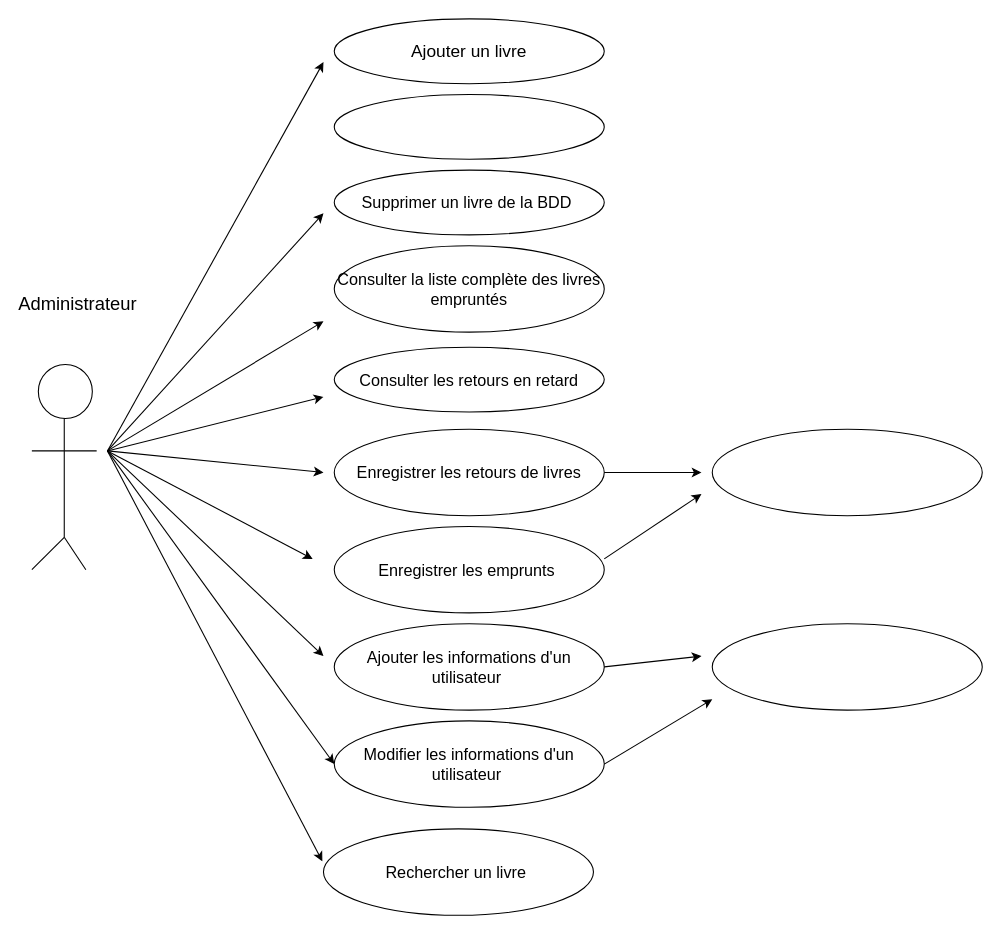
The diagram is 1001 pixels wide and 934 high, and some of its shapes have lost their labels. The shapes that lost their labels are listed below. From the top down, each one's box as (x1, y1, x2, y2) in pixels, then its label:
(333, 93, 604, 159): Consulter et modifier la fiche d'un livre
(711, 428, 982, 516): Superviser les emprunts et les retours de livres
(711, 623, 982, 710): Consulter les informations des utilisateurs
